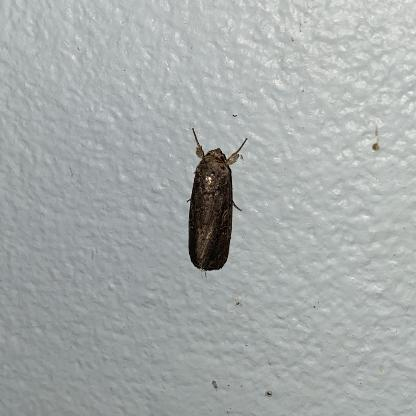Fall Armyworm Moth: (185, 127, 249, 273)
